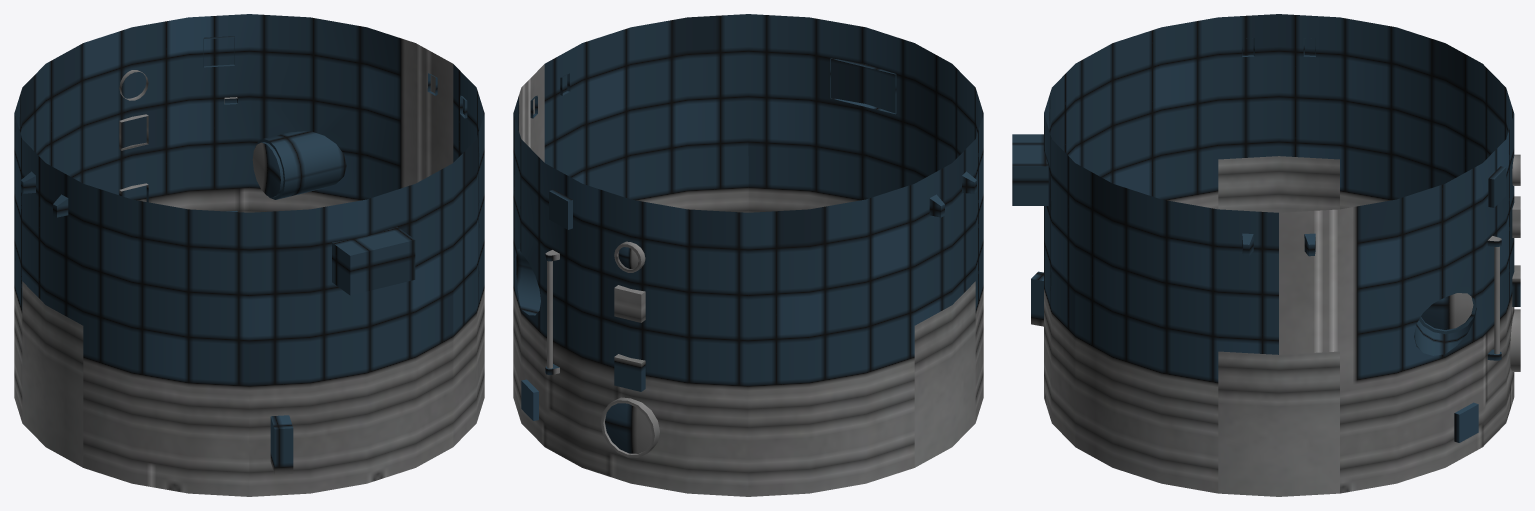
File: aquila_crew_s1p5_1_naked_plain.obj
3 views of the same model, side by side, from view 1: azimuth 30°, elevation 25°; view 2: azimuth 150°, elevation 25°; view 3: azimuth 270°, elevation 25° (orthographic).
Visible parts, largest first — view 1: 1, w1; view 2: 1, w1; view 3: 1, w1.
Boxes of the visible parts, left/top/right/bottom form: 1: left=14, top=14, right=484, bottom=496; w1: left=252, top=142, right=280, bottom=197; 1: left=513, top=14, right=983, bottom=496; w1: left=605, top=247, right=651, bottom=453; 1: left=1012, top=14, right=1520, bottom=496; w1: left=1421, top=293, right=1473, bottom=329.
Bounding box in the file's own units: 1.94 × 1.25 × 2.02.
